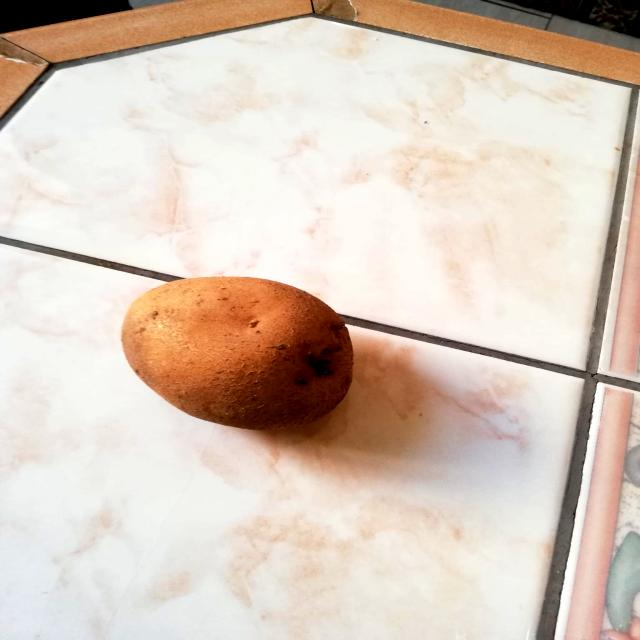potato: (120, 264, 358, 436)
